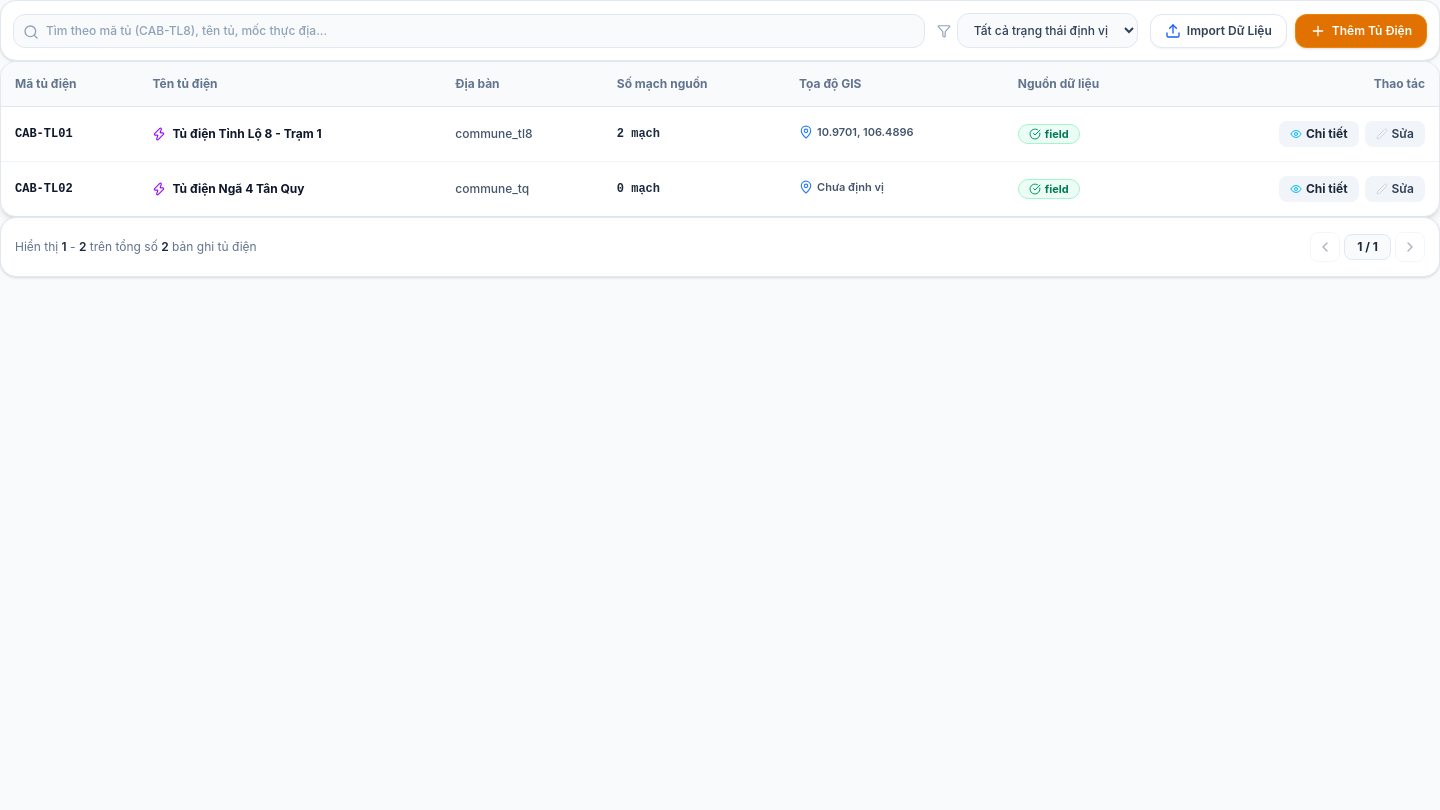
CabinetsTab & Cabinet Components Test Suite (Task 2) › 1. Happy Path - Component Rendering & User Interactions › mở modal xem chi tiết và xác nhận KHÔNG CÓ nút Chỉnh Sửa ở footer
This screenshot has width=1440, height=810.
Click the button "Chi tiết" in the row of "CAB-TL01": (1319, 134) [1279, 121, 1358, 147]
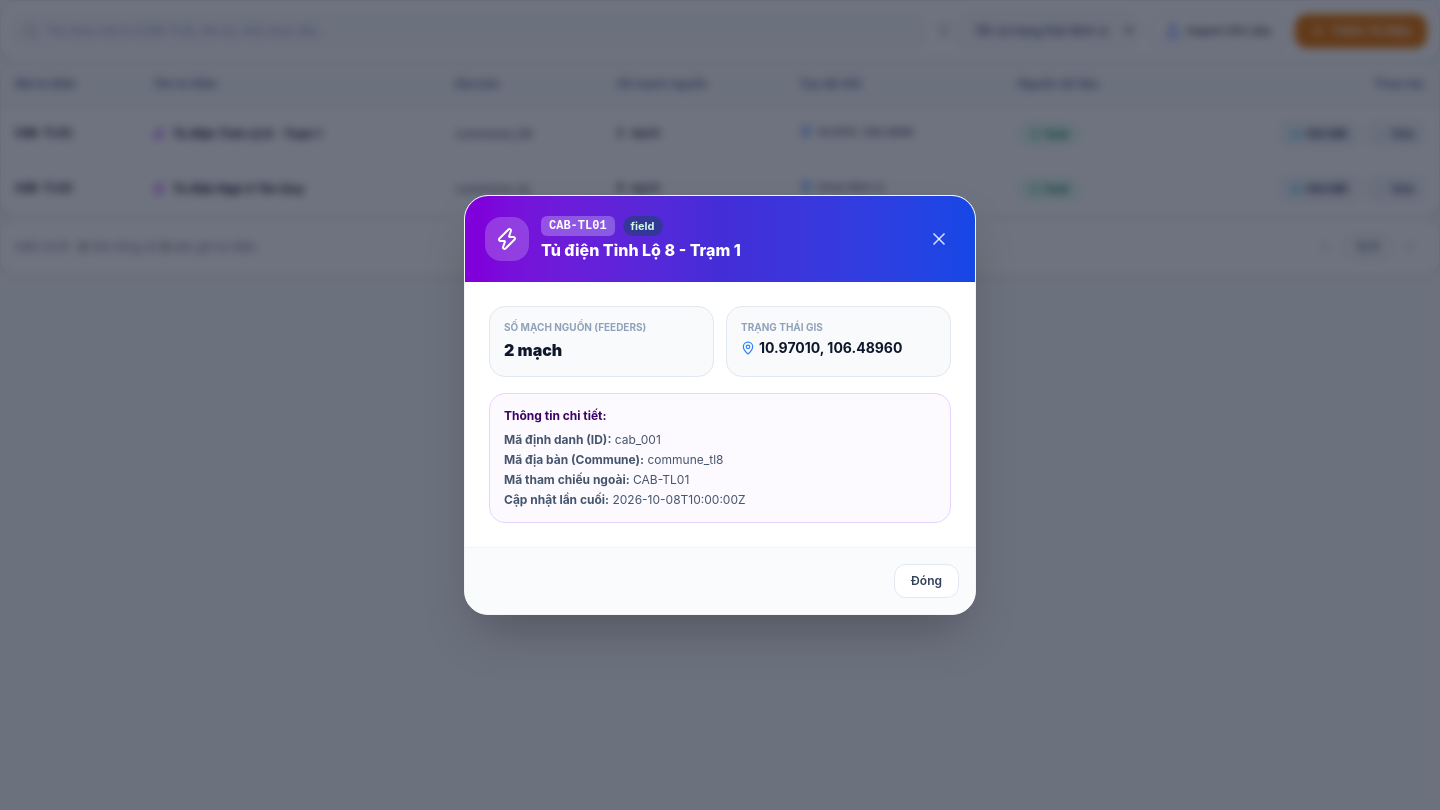
Expected: the text "Số mạch nguồn (Feeders)" is shown, [504, 321, 646, 333]
Expected: the text "Mã định danh (ID):" is shown, [504, 432, 611, 447]
Expected: the button "Đóng" is shown, [894, 564, 959, 598]
